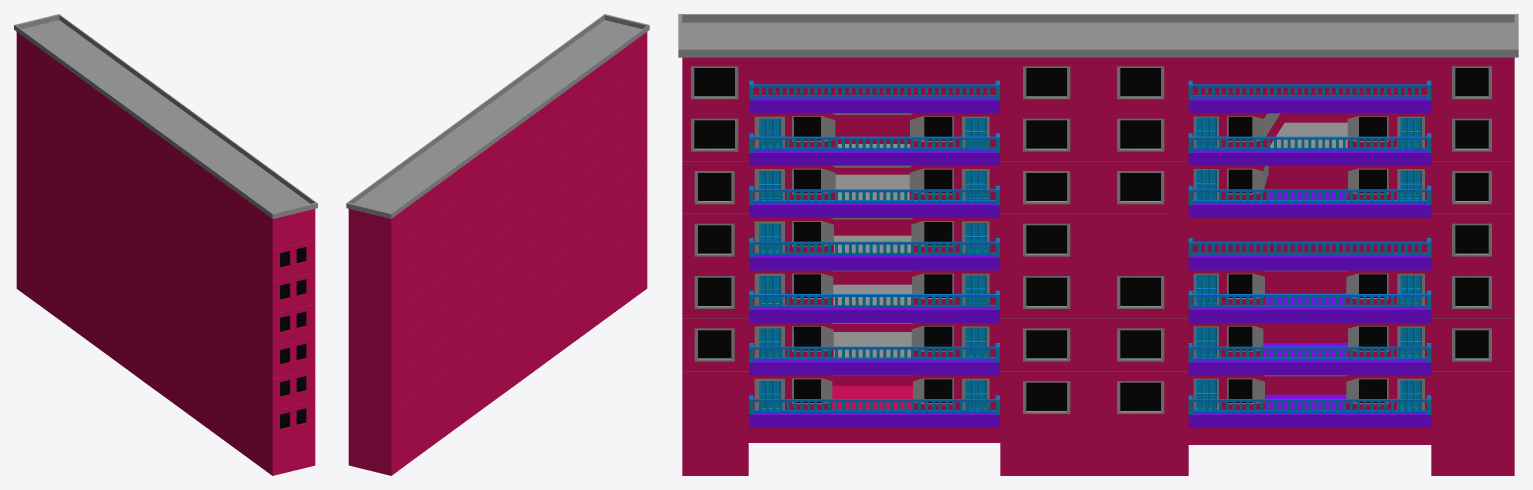
Rendered from Building 13.fbx.
3 renders of one model, left to right at view 1: azimuth 30°, elevation 25°; view 2: azimuth 150°, elevation 25°; view 3: azimuth 270°, elevation 25°, orthographic. The views are drawn at different scales.
Parts seen in each view (by area): view 1: building_003; view 2: building_003; view 3: building_003.
Boxes of the visible parts, x1,y1,x2,y2 form: building_003: [14, 14, 317, 475]; building_003: [346, 14, 649, 475]; building_003: [678, 14, 1518, 475].
Size of the model in its own units: 461 by 2345 by 4181.
